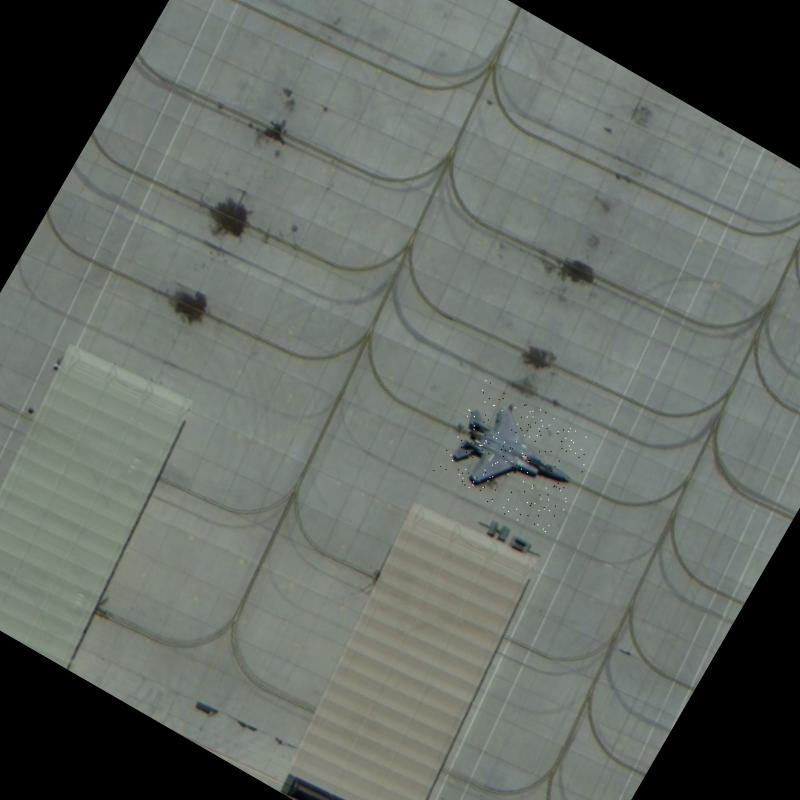A13: (431, 378, 602, 540)
